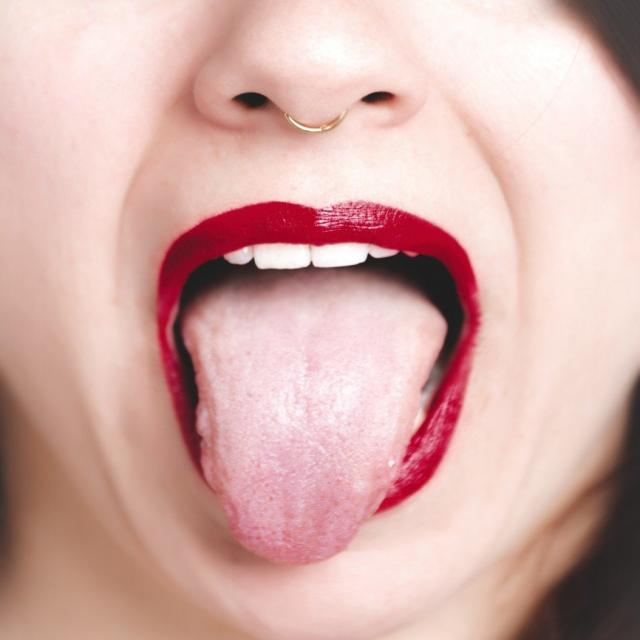baitaishe: (182, 268, 447, 564)
